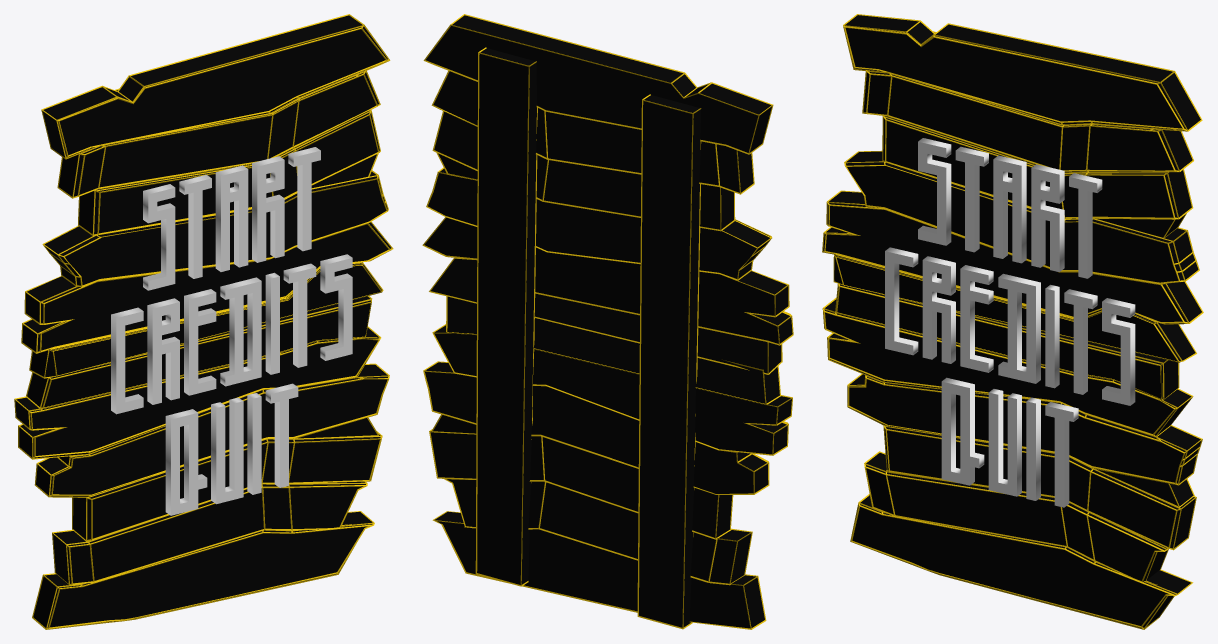
File: Menu_V02.fbx
3 views of the same model, side by side, from view 1: azimuth 30°, elevation 25°; view 2: azimuth 150°, elevation 25°; view 3: azimuth 330°, elevation 25° (orthographic). The views are drawn at different scales.
Visible parts, largest first — view 1: Menu_Sign, Text_Credits, Text_Start, Text_Quit; view 2: Menu_Sign; view 3: Menu_Sign, Text_Credits, Text_Start, Text_Quit.
Part boxes in pixels (<box>): Menu_Sign: <box>14,14,393,629</box>; Text_Credits: <box>111,254,352,414</box>; Text_Start: <box>143,147,320,290</box>; Text_Quit: <box>165,383,298,515</box>; Menu_Sign: <box>422,14,793,629</box>; Menu_Sign: <box>822,14,1203,629</box>; Text_Credits: <box>885,247,1135,405</box>; Text_Start: <box>918,138,1102,278</box>; Text_Quit: <box>941,377,1078,507</box>.
Size of the model in its own units: 226 by 325 by 41.45.
